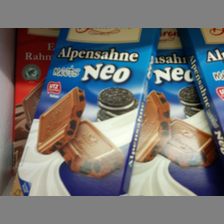chocolate: (20, 27, 160, 195)
